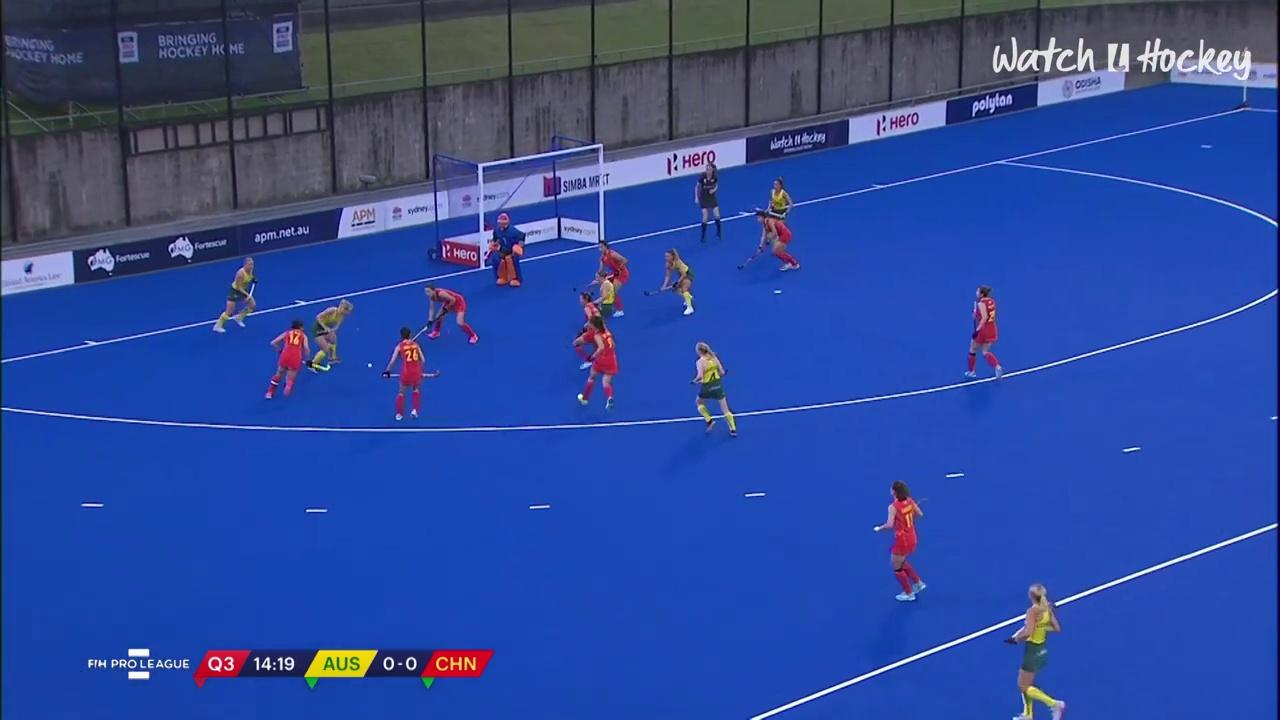ball: (365, 359, 377, 370)
